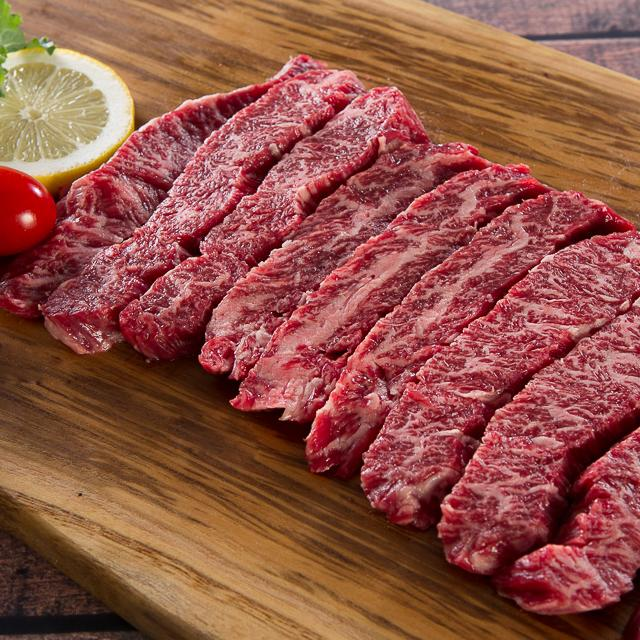beef: (179, 139, 453, 362)
